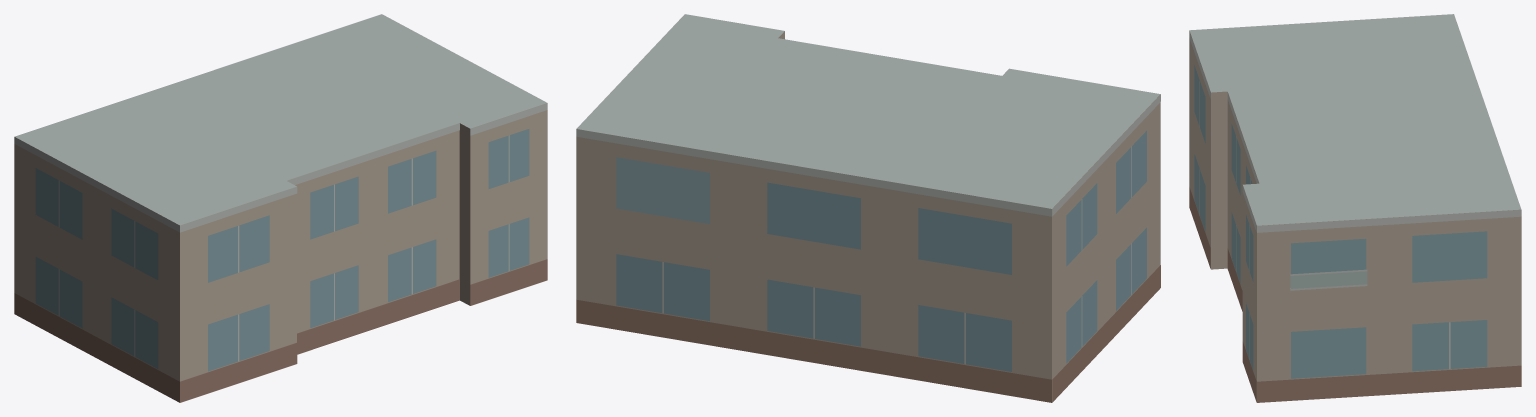
The model's file is survey-upis-32819560.glb.
3 views of the same model, side by side, from view 1: azimuth 30°, elevation 25°; view 2: azimuth 150°, elevation 25°; view 3: azimuth 270°, elevation 25° (orthographic). The views are drawn at different scales.
Parts seen in each view (by area): view 1: survey-upis-32819560.tmp; view 2: survey-upis-32819560.tmp; view 3: survey-upis-32819560.tmp.
Part boxes in pixels (x1,y1,x2,y2): survey-upis-32819560.tmp: (14, 14, 547, 402); survey-upis-32819560.tmp: (576, 14, 1160, 402); survey-upis-32819560.tmp: (1189, 14, 1521, 402).
Size of the model in its own units: 15.65 by 6.1 by 10.38.
